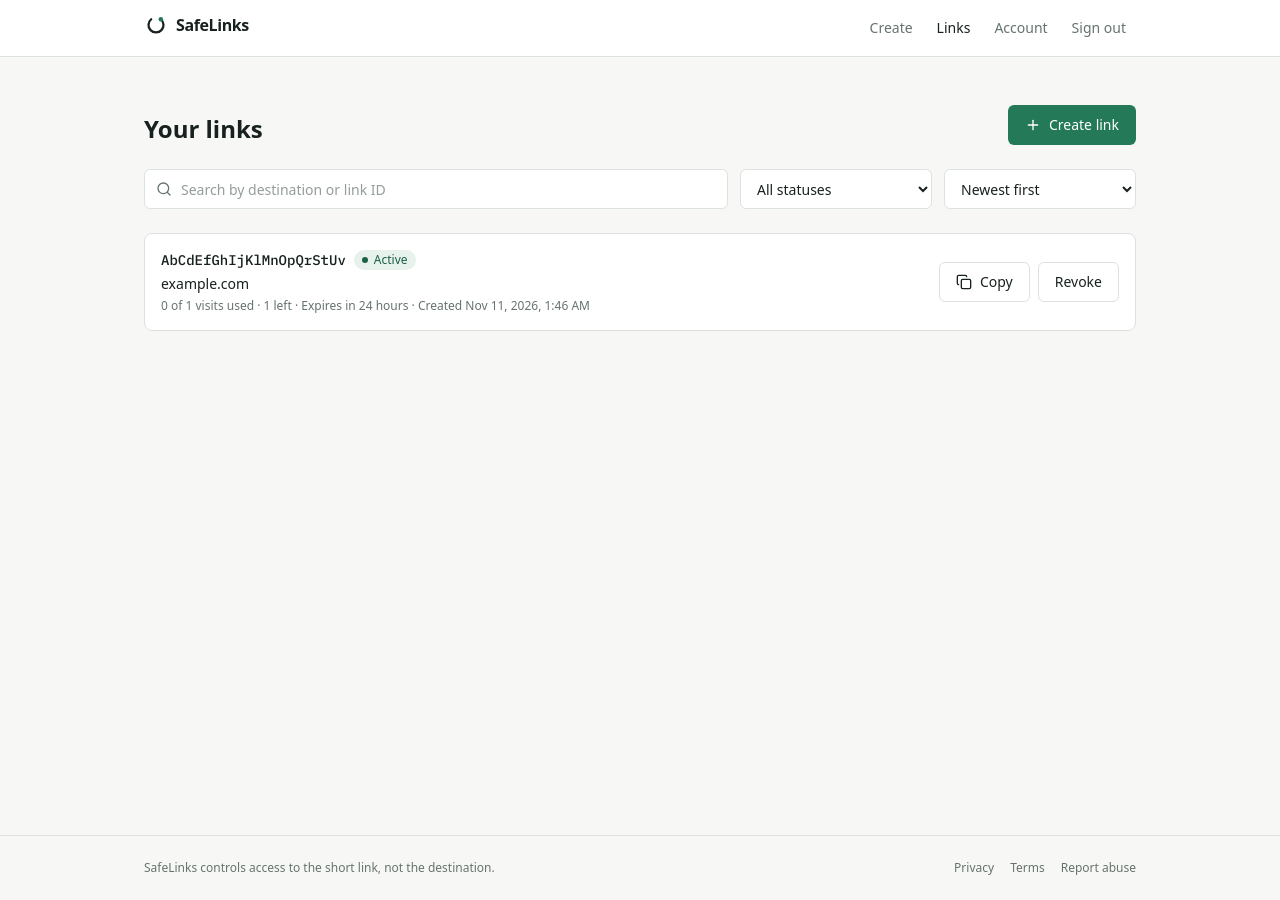
Test: dashboard › revokes only after confirmation
Click the button "Revoke" at (1078, 282), box [1038,262,1119,302]
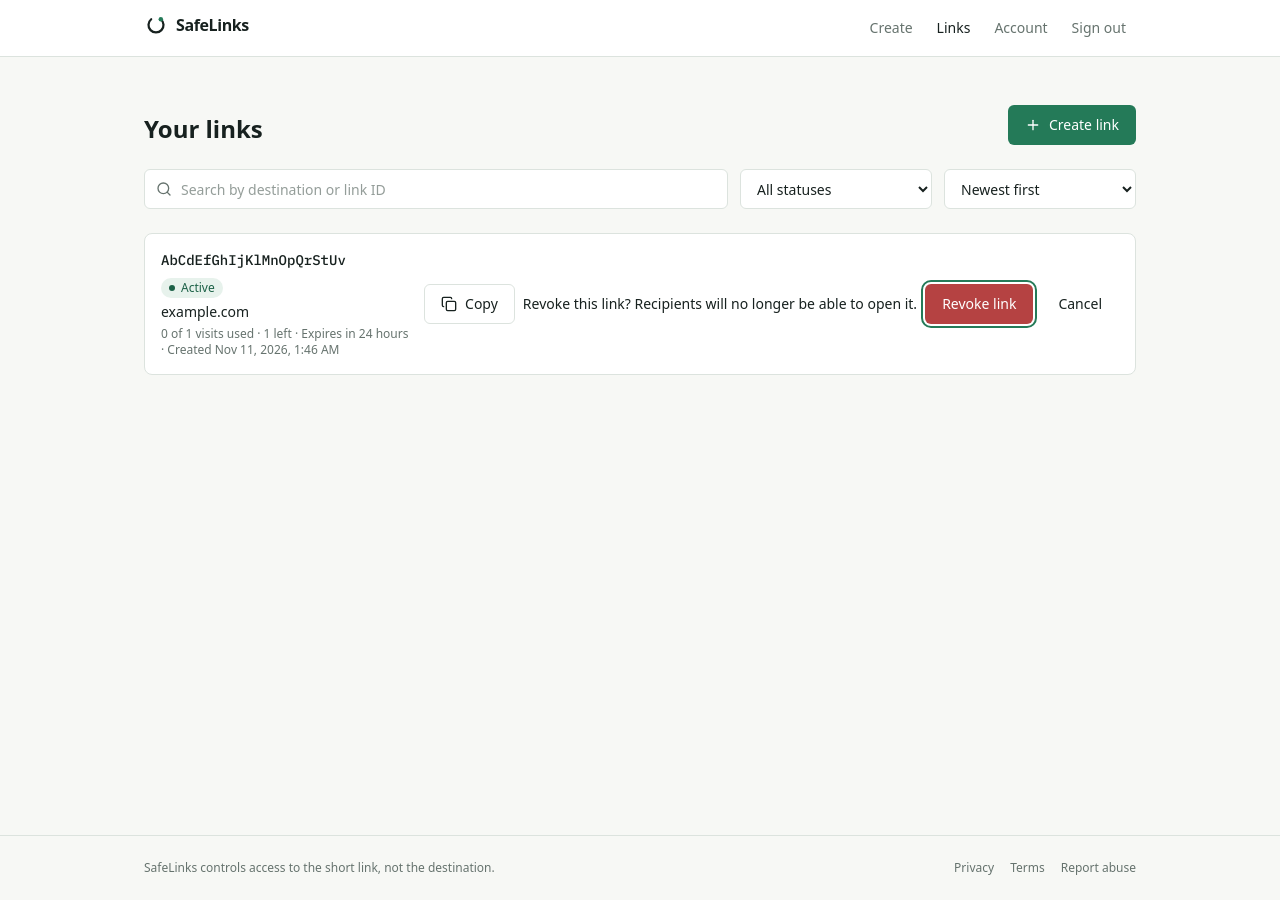
Press Escape
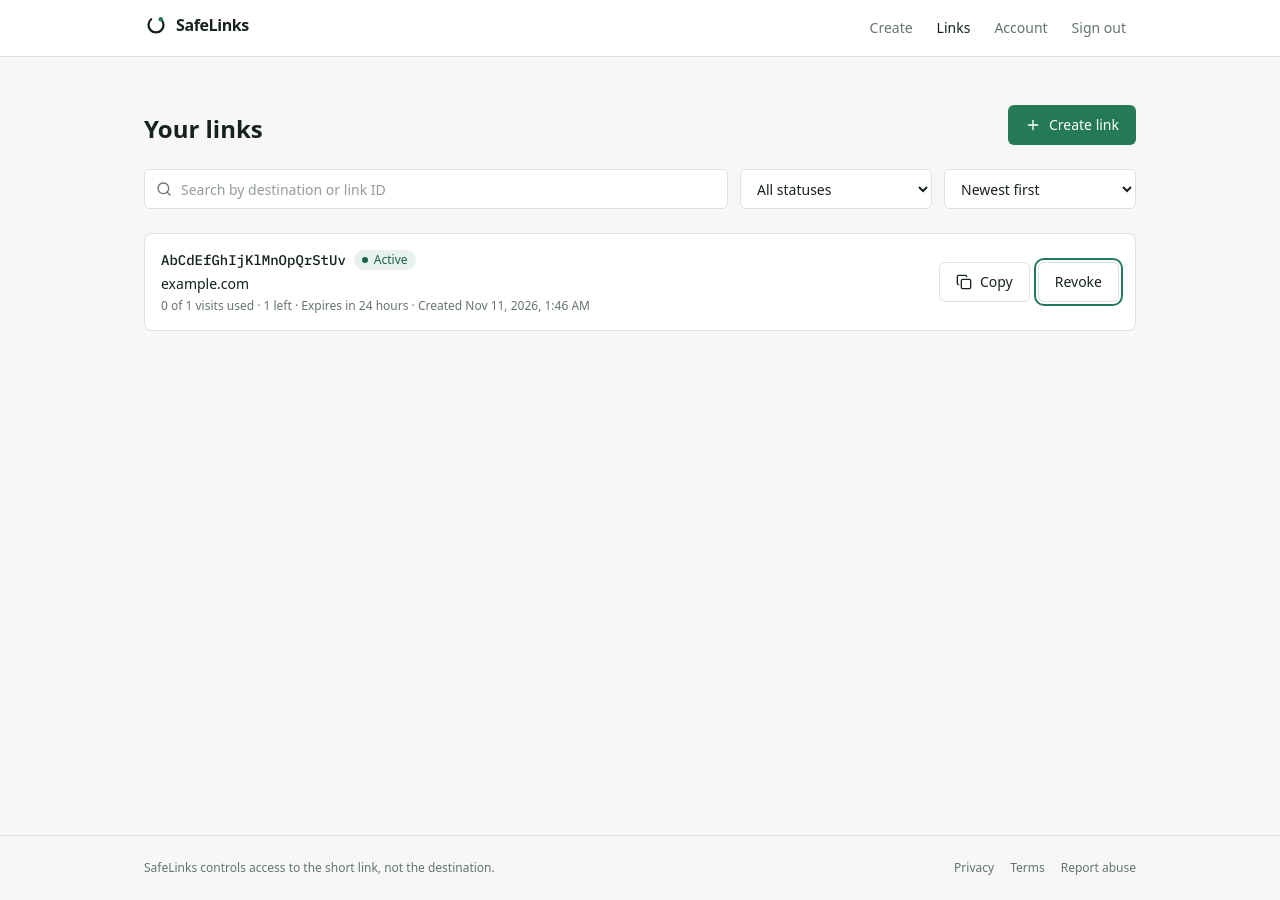
Click the button "Revoke" at (1078, 282), box [1038,262,1119,302]
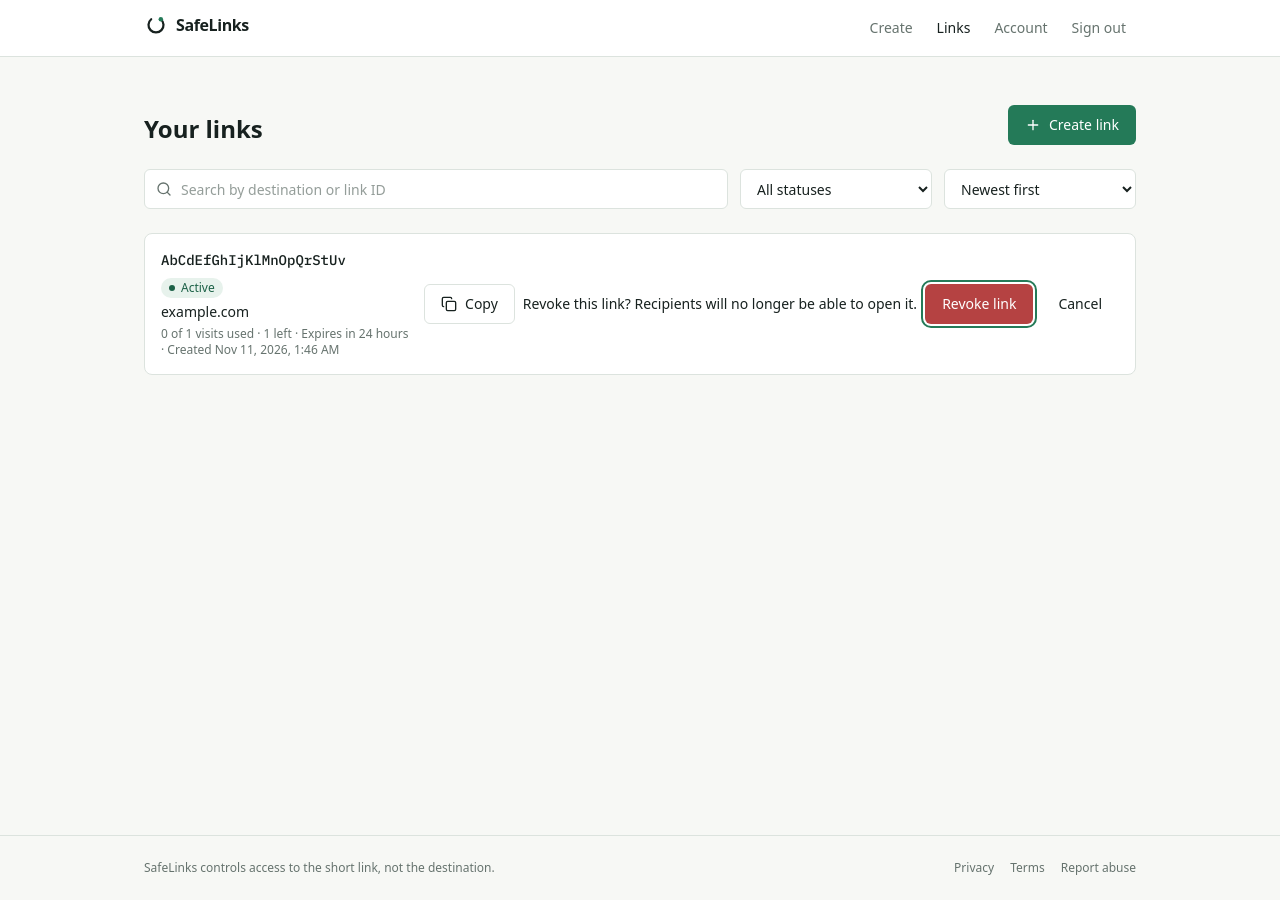
Click the button "Revoke link" at (979, 304), box [925,284,1033,324]
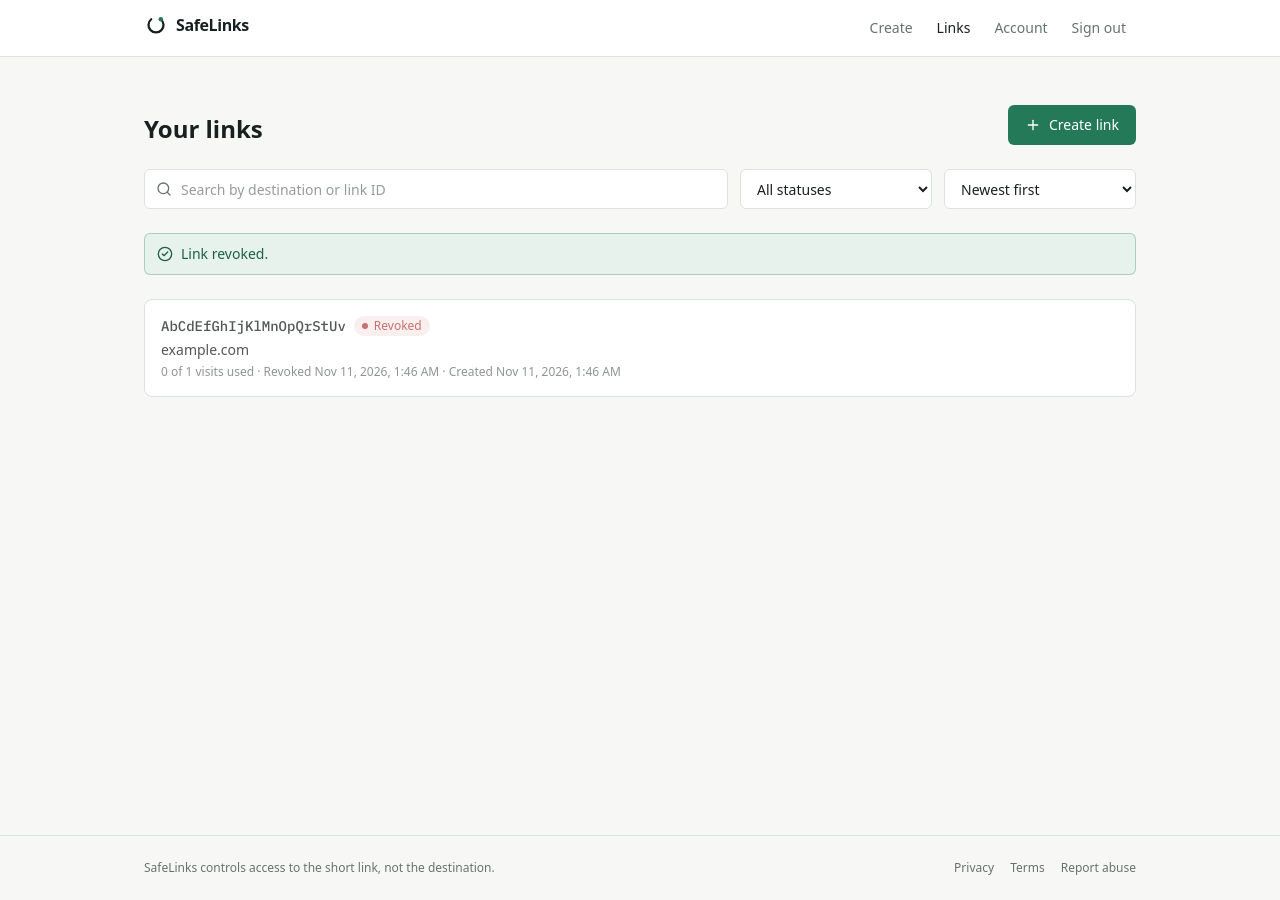
expect the text "Link revoked." is shown: met, box [181,244,268,264]
